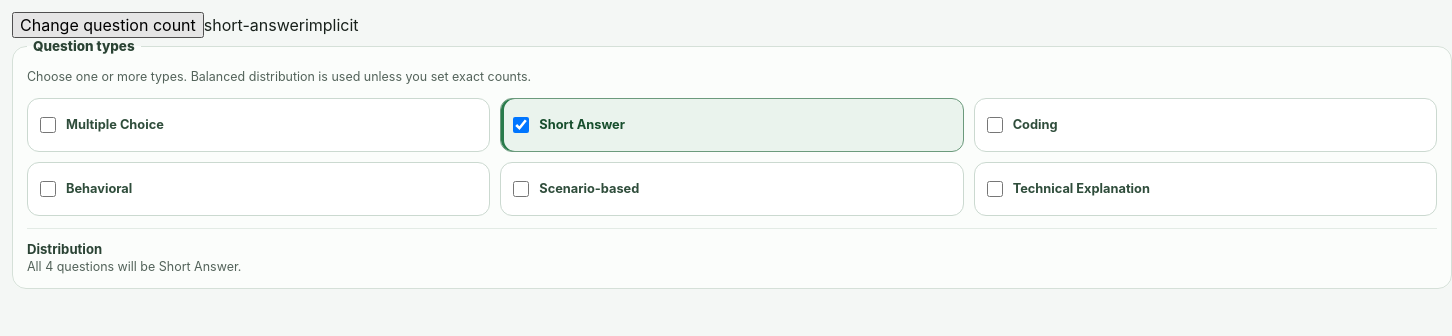
InterviewQuestionTypeControls › requires at least one selected type and preserves selected order
What coordinates should you click on to do the following:
click the checkbox labelled "Short Answer"
I would click on:
 (521, 125)
Its box is [513, 117, 529, 133].
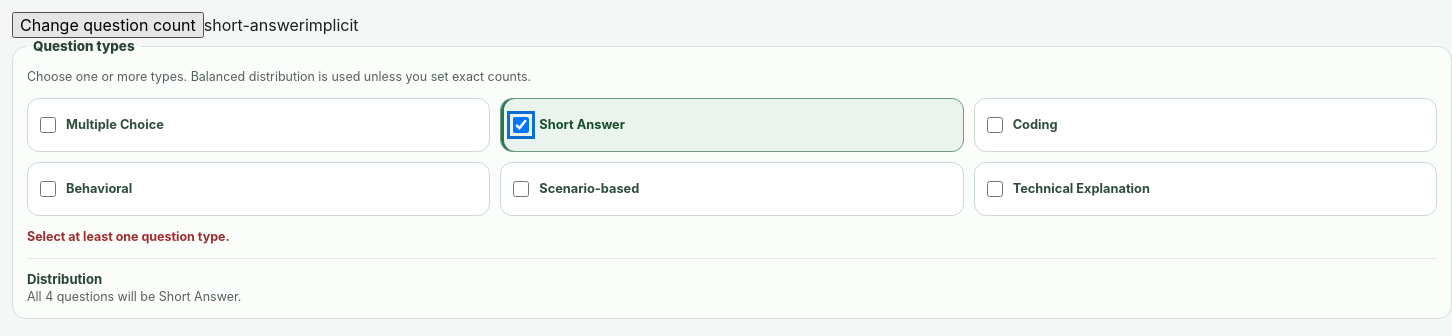
Result: the message shows "at least one" at [27, 229, 230, 244]
What coordinates should you click on to do the following:
click the checkbox labelled "Coding"
I would click on:
 (995, 125)
Its box is [987, 117, 1003, 133].
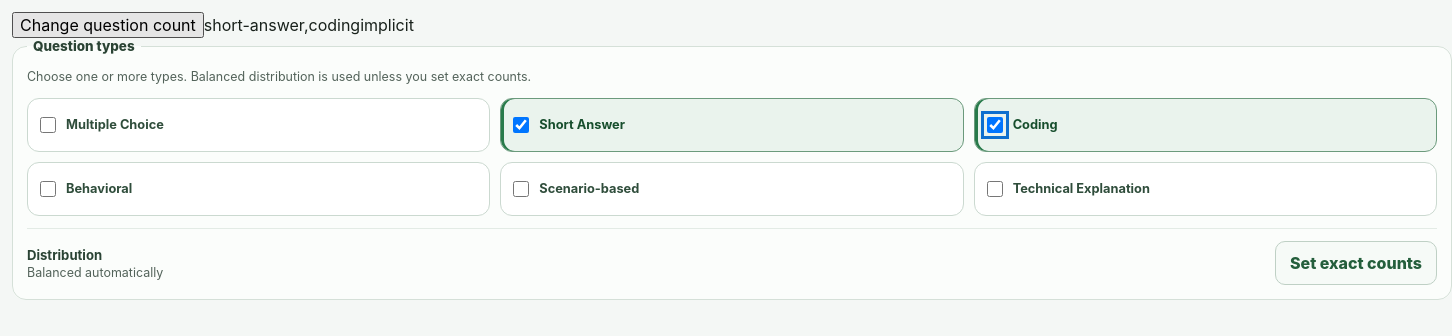
What coordinates should you click on to do the following:
click the checkbox labelled "Behavioral"
I would click on:
 (48, 189)
Its box is [40, 181, 56, 197].
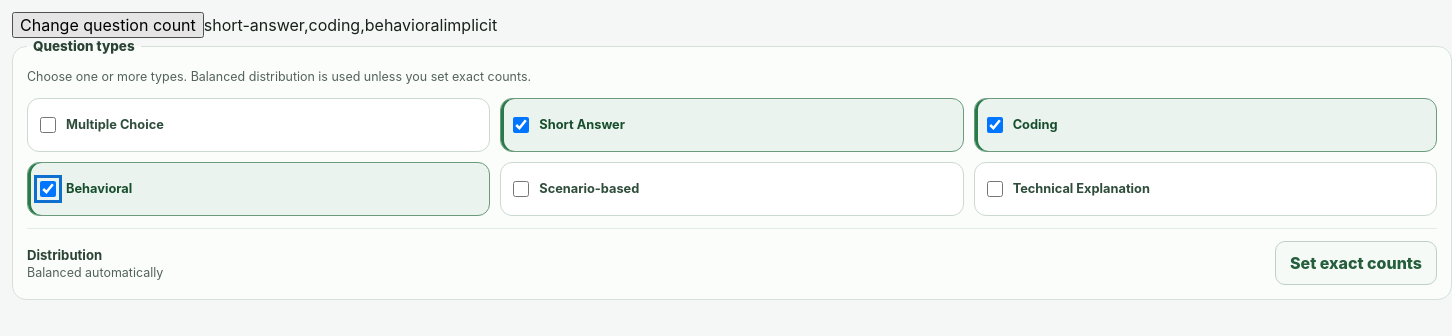
Result: the text named "Selected order" reads "short-answer,coding,behavioral" at [204, 15, 444, 35]
What coordinates should you click on to do the following:
click the checkbox labelled "Short Answer"
I would click on:
 (521, 125)
Its box is [513, 117, 529, 133].
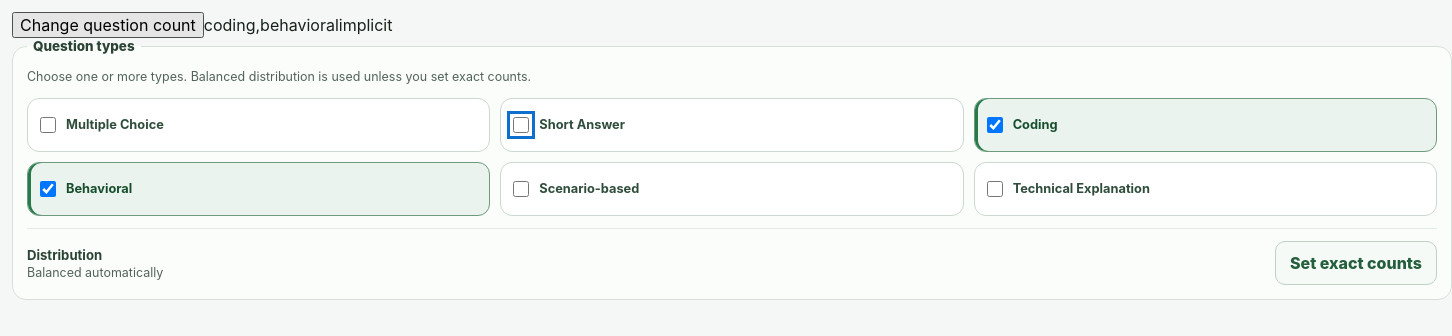
Result: the text named "Selected order" reads "coding,behavioral" at [204, 15, 339, 35]
